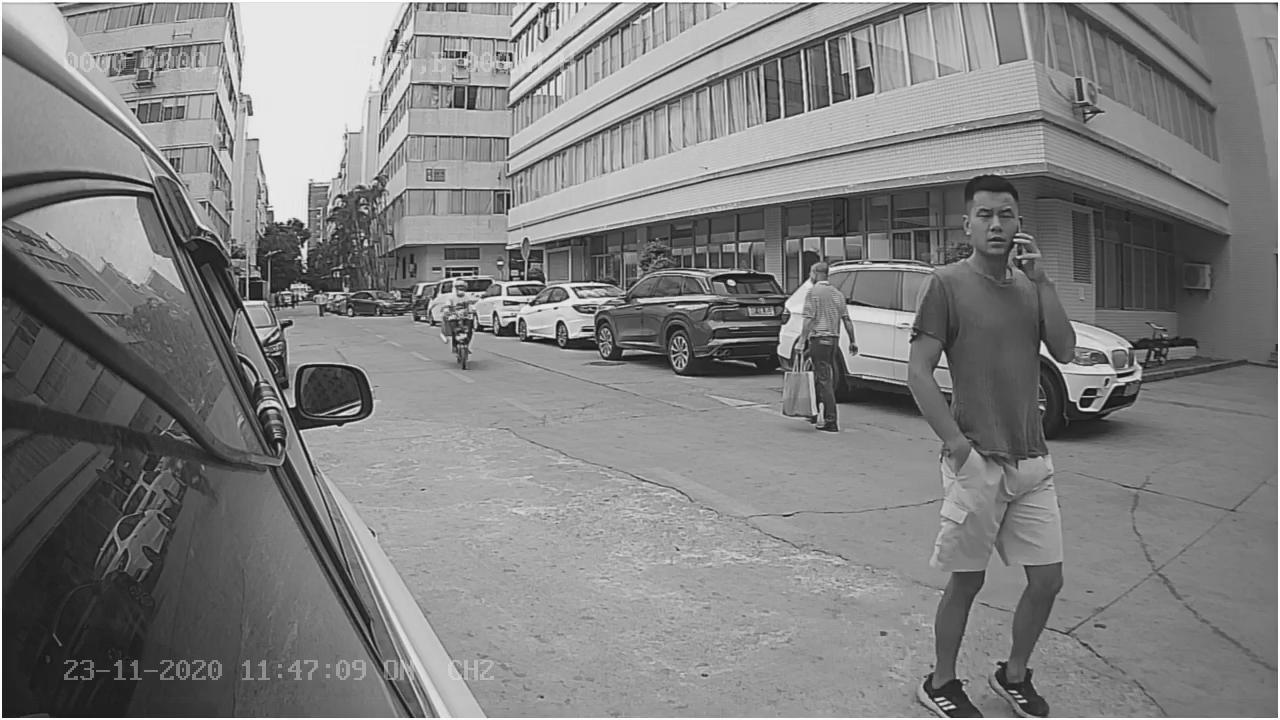person: (893, 159, 1079, 712), (783, 246, 861, 437)
